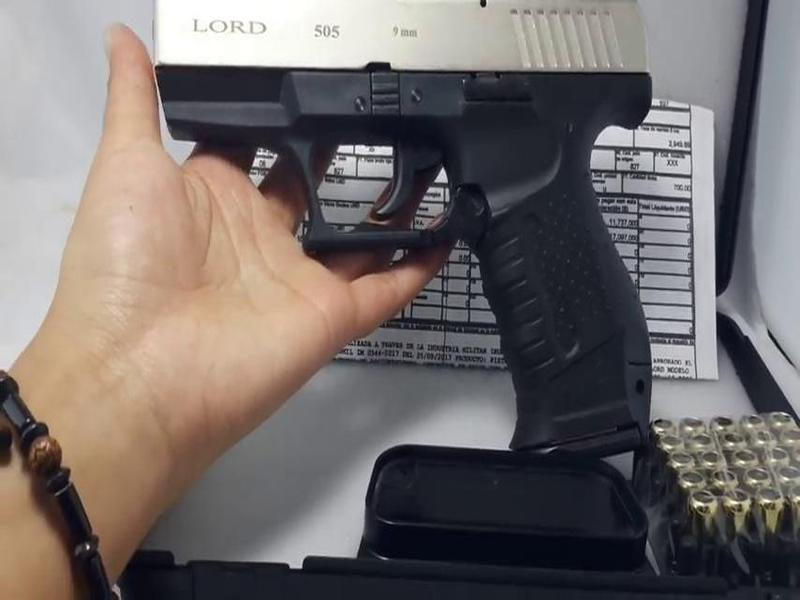Pistola: (127, 1, 682, 472)
